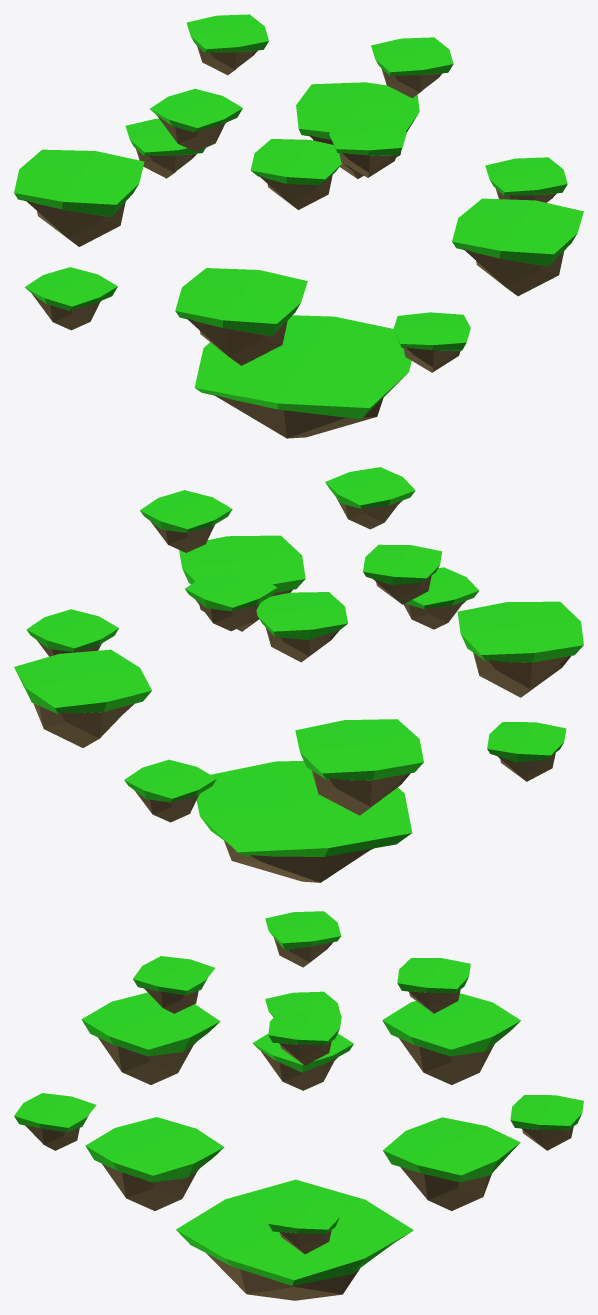
The model's file is Skylands.glb.
3 views of the same model, one above another, from view 1: azimuth 30°, elevation 25°; view 2: azimuth 150°, elevation 25°; view 3: azimuth 270°, elevation 25° (orthographic). The views are drawn at different scales.
Parts seen in each view (by area): view 1: Cube.009; view 2: Cube.009; view 3: Cube.009.
Boxes of the visible parts, <box> form: Cube.009: <box>14,14,583,438</box>; Cube.009: <box>14,467,583,882</box>; Cube.009: <box>14,911,583,1300</box>.
Size of the model in its own units: 232 by 148 by 235.
